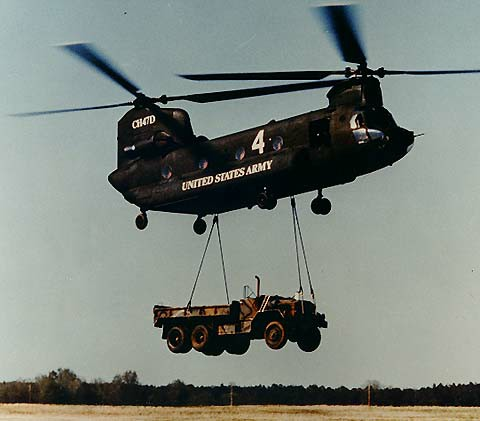chinook: (56, 21, 470, 232)
